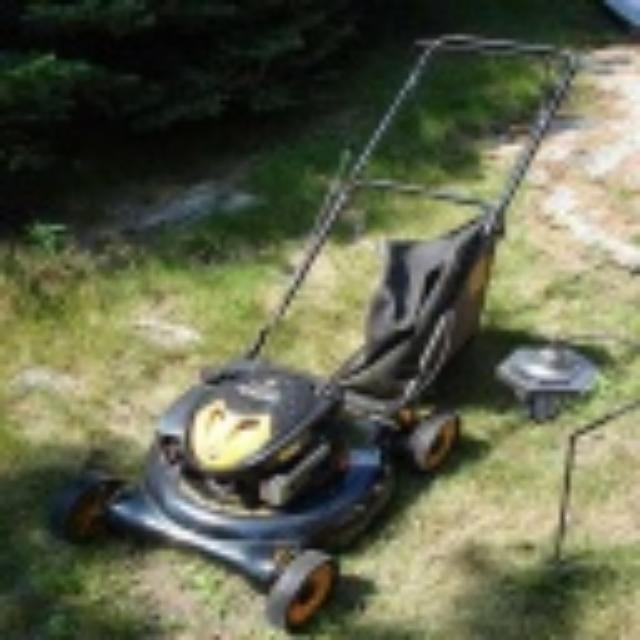Rotary-Mower: (87, 15, 581, 622)
